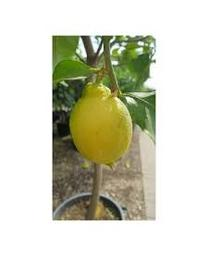lemon: (69, 82, 133, 166)
